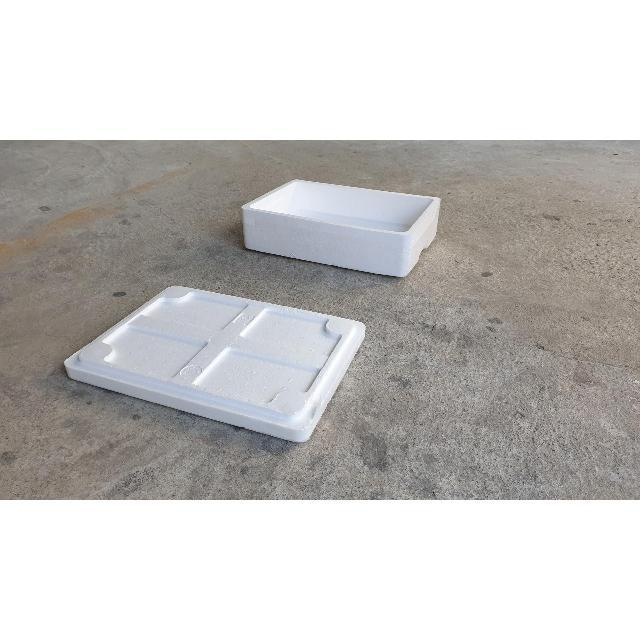Recipiente plastico: (65, 286, 365, 442), (242, 180, 438, 276)
